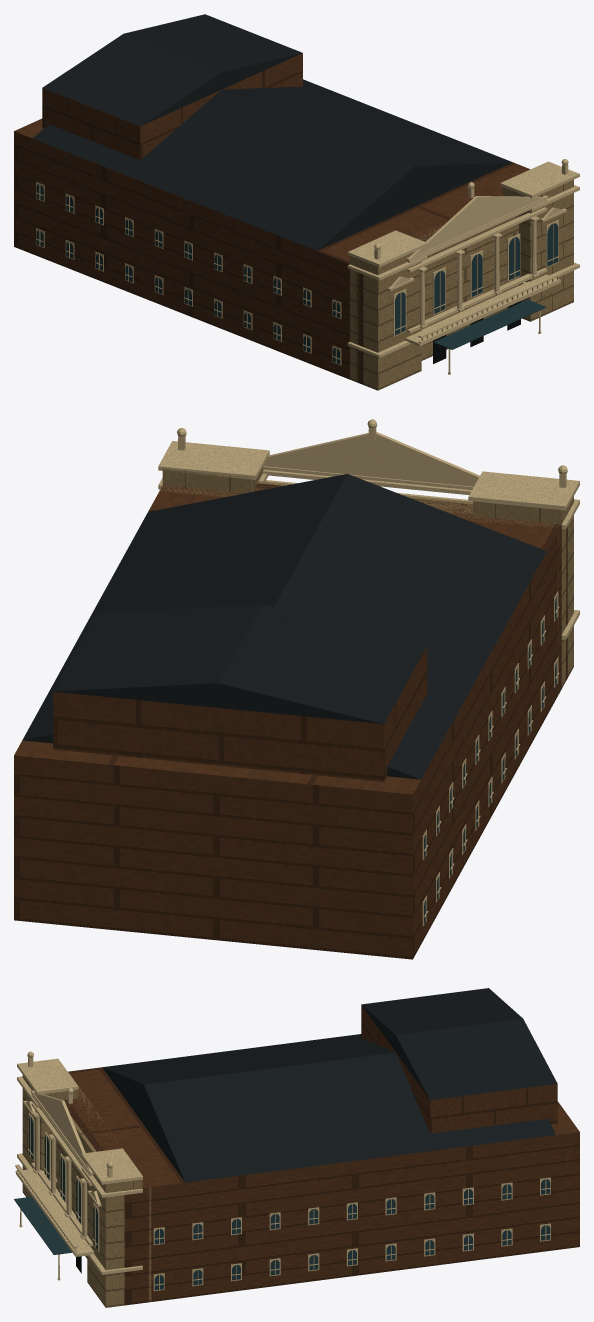
3 views of the same model, one above another, from view 1: azimuth 30°, elevation 25°; view 2: azimuth 150°, elevation 25°; view 3: azimuth 270°, elevation 25° (orthographic). The views are drawn at different scales.
Parts seen in each view (by area): view 1: schouwburg-1, schouwburg-0, schouwburg-3, schouwburg-2, schouwburg-4, schouwburg-5; view 2: schouwburg-0, schouwburg-1, schouwburg-3, schouwburg-2, schouwburg-4; view 3: schouwburg-0, schouwburg-1, schouwburg-3, schouwburg-2, schouwburg-4.
Boxes of the visible parts, x1,y1,x2,y2 form: schouwburg-1: [33, 14, 512, 250]; schouwburg-0: [14, 53, 530, 384]; schouwburg-3: [36, 159, 579, 374]; schouwburg-2: [350, 179, 573, 390]; schouwburg-4: [36, 184, 558, 364]; schouwburg-5: [433, 301, 520, 363]; schouwburg-0: [14, 483, 567, 959]; schouwburg-1: [22, 474, 546, 779]; schouwburg-3: [158, 419, 579, 926]; schouwburg-2: [160, 466, 573, 694]; schouwburg-4: [424, 595, 557, 923]; schouwburg-0: [64, 1005, 579, 1305]; schouwburg-1: [102, 988, 557, 1182]; schouwburg-3: [15, 1051, 550, 1291]; schouwburg-2: [22, 1072, 151, 1307]; schouwburg-4: [14, 1116, 550, 1290].
Size of the model in its own units: 66.48 by 30 by 89.19.
Materials: 6 (6 with a texture image).
